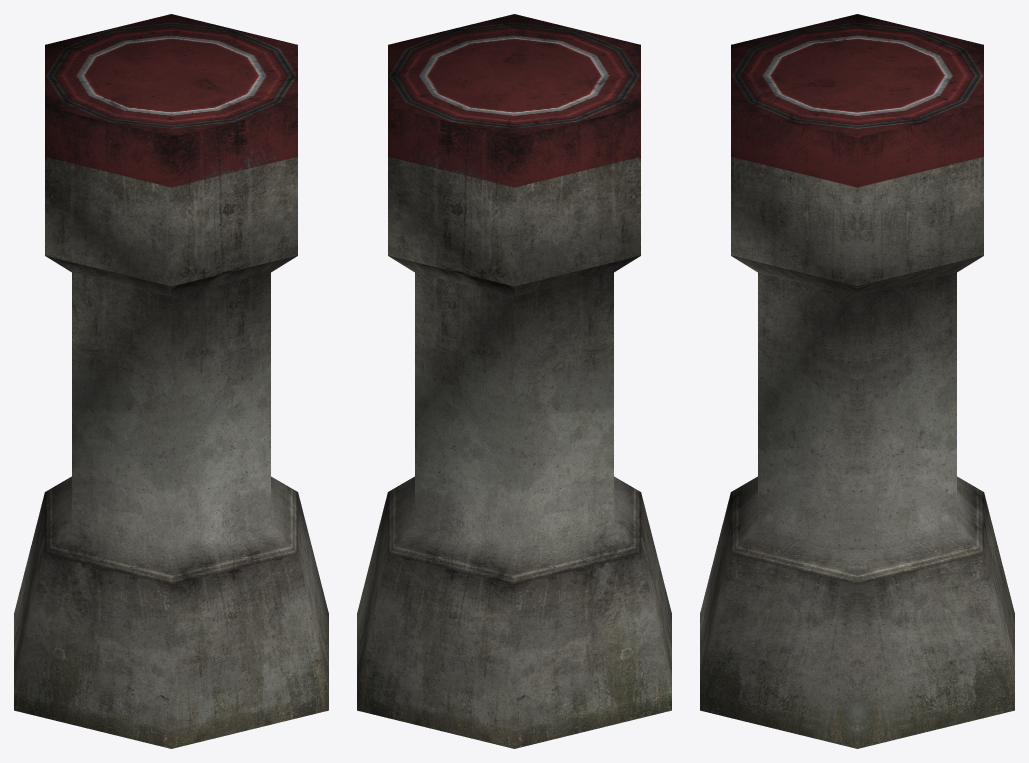
The model's file is ColloneWall_Lod02.FBX.
The picture shows the model from 3 angles, left to right: view 1: azimuth 30°, elevation 25°; view 2: azimuth 150°, elevation 25°; view 3: azimuth 270°, elevation 25°; orthographic projection.
Parts seen in each view (by area): view 1: ColloneWallA_Lod02; view 2: ColloneWallA_Lod02; view 3: ColloneWallA_Lod02.
Part boxes in pixels (left/top/right/bottom): ColloneWallA_Lod02: left=14, top=14, right=328, bottom=748; ColloneWallA_Lod02: left=357, top=14, right=671, bottom=748; ColloneWallA_Lod02: left=700, top=14, right=1014, bottom=748.
Size of the model in its own units: 622 by 538 by 1125.
Materials: 1 (1 with a texture image).
